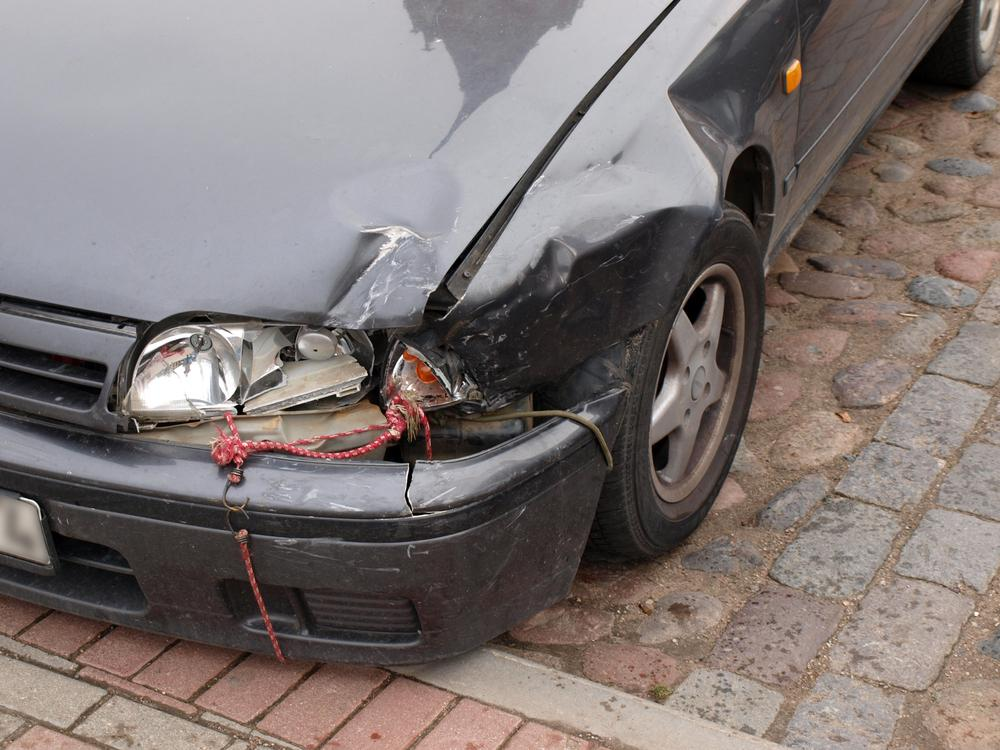crack: (404, 461, 434, 516)
dent: (524, 112, 708, 290), (322, 155, 457, 323)
lamp broken: (121, 318, 403, 443)
